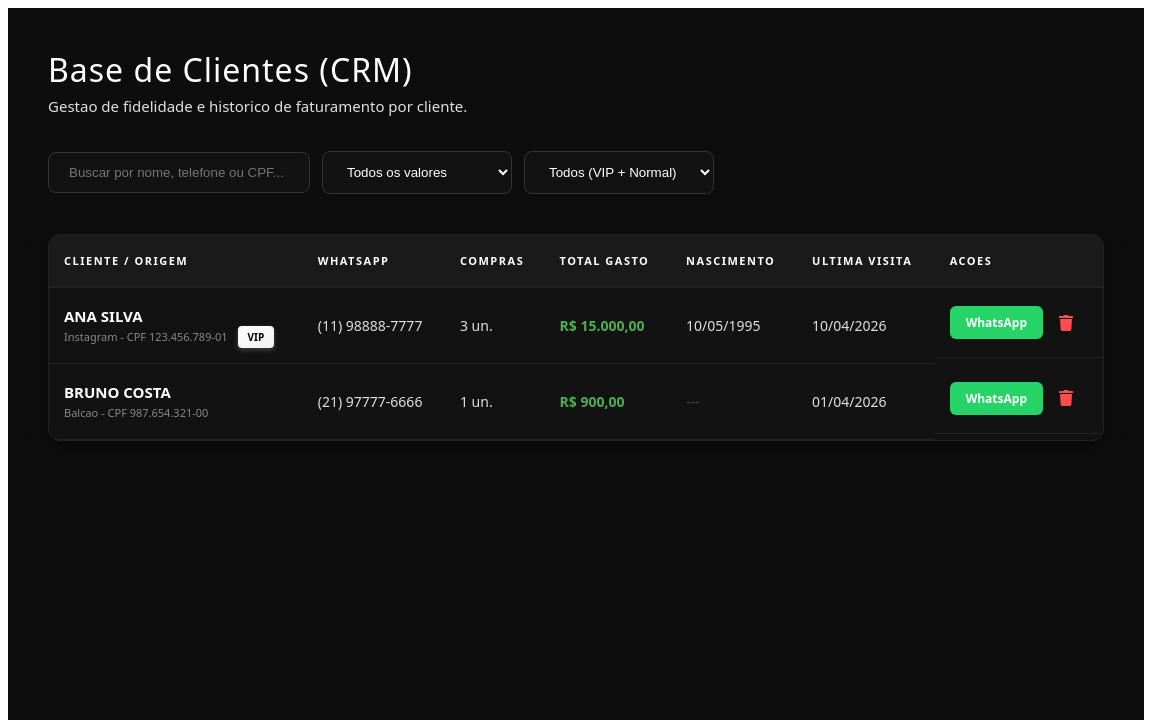
Clientes › filtra clientes usando CPF sem pontuacao
Type "12345678901" into the field with placeholder "Buscar por nome, telefone ou CPF..." at [179, 172], box 48,152 -> 310,193
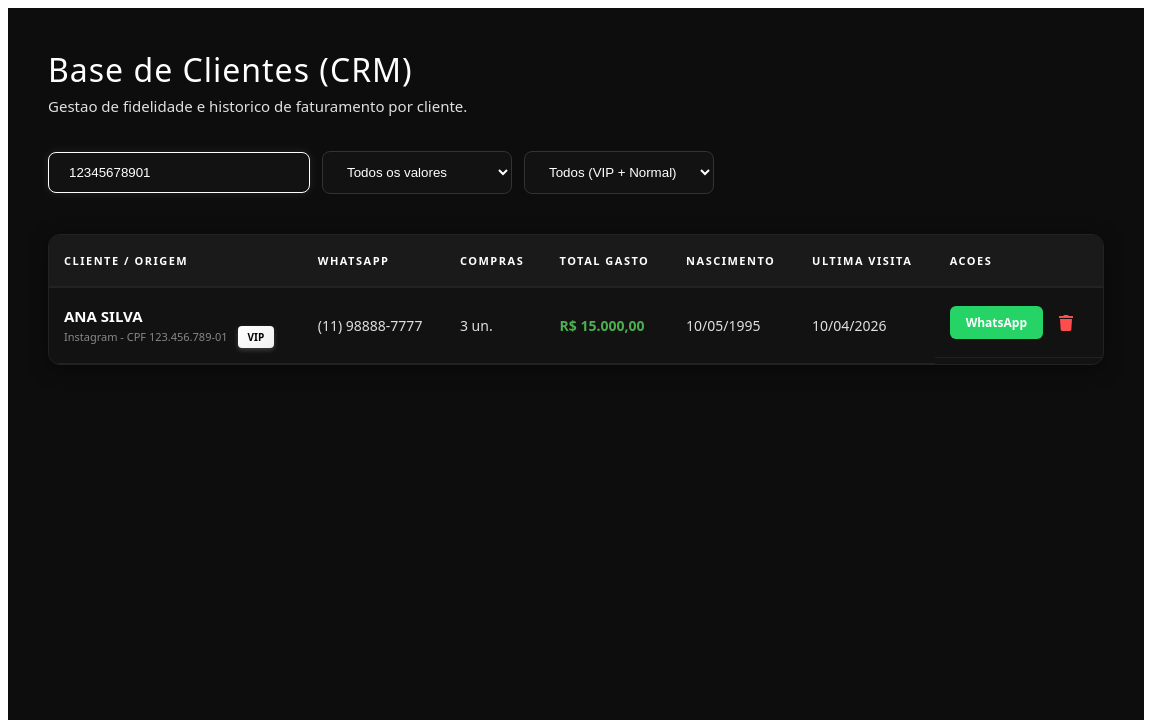
Check: the text "ANA SILVA" is shown, box 64,306 -> 143,326
Check: the text "BRUNO COSTA" is gone
